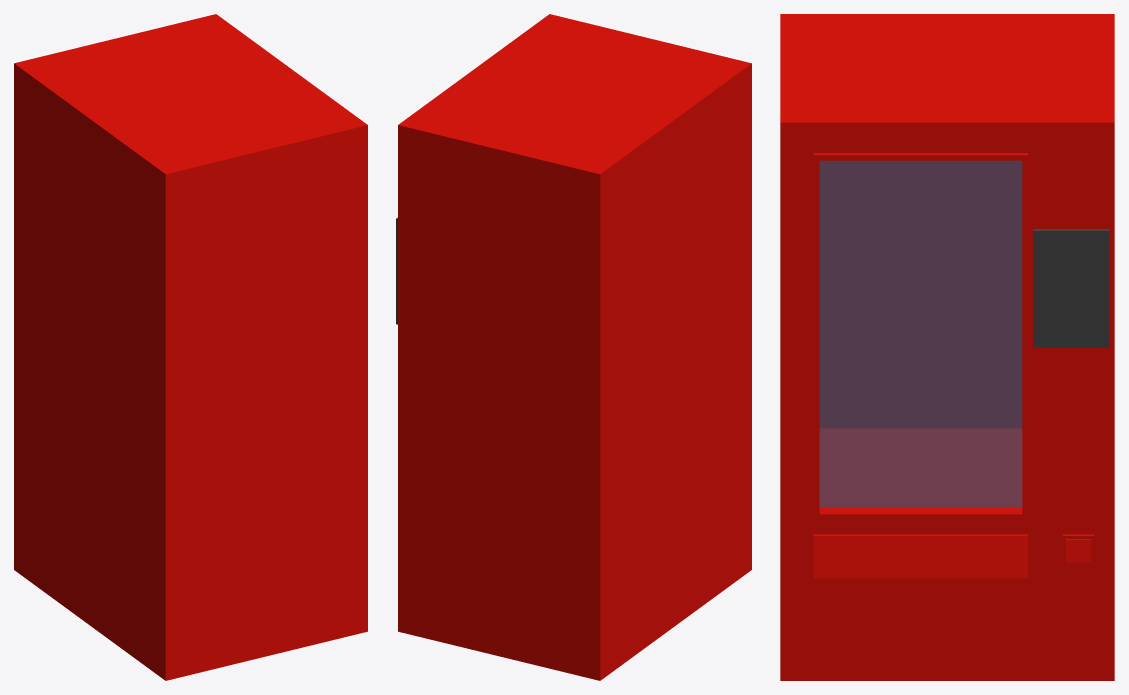
The model's file is VendingMachine.fbx.
The picture shows the model from 3 angles, left to right: view 1: azimuth 30°, elevation 25°; view 2: azimuth 150°, elevation 25°; view 3: azimuth 270°, elevation 25°; orthographic projection. The views are drawn at different scales.
Visible parts, largest first — view 1: Cube; view 2: Cube; view 3: Cube.
Part boxes in pixels (left/top/right/bottom): Cube: left=14, top=14, right=367, bottom=680; Cube: left=396, top=14, right=751, bottom=680; Cube: left=780, top=14, right=1114, bottom=680.
Bounding box in the file's own units: 161 × 369 × 200.
